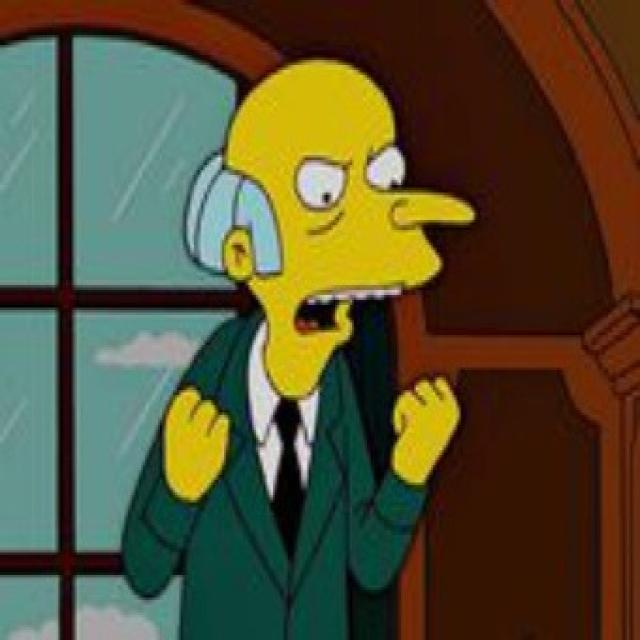Charles Montgomery Burns: (180, 60, 479, 370)
